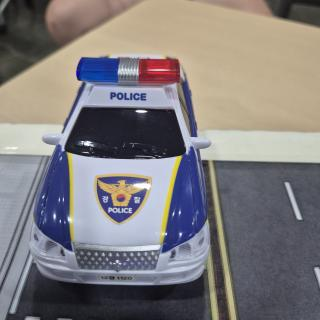Police_car: (30, 55, 211, 285)
